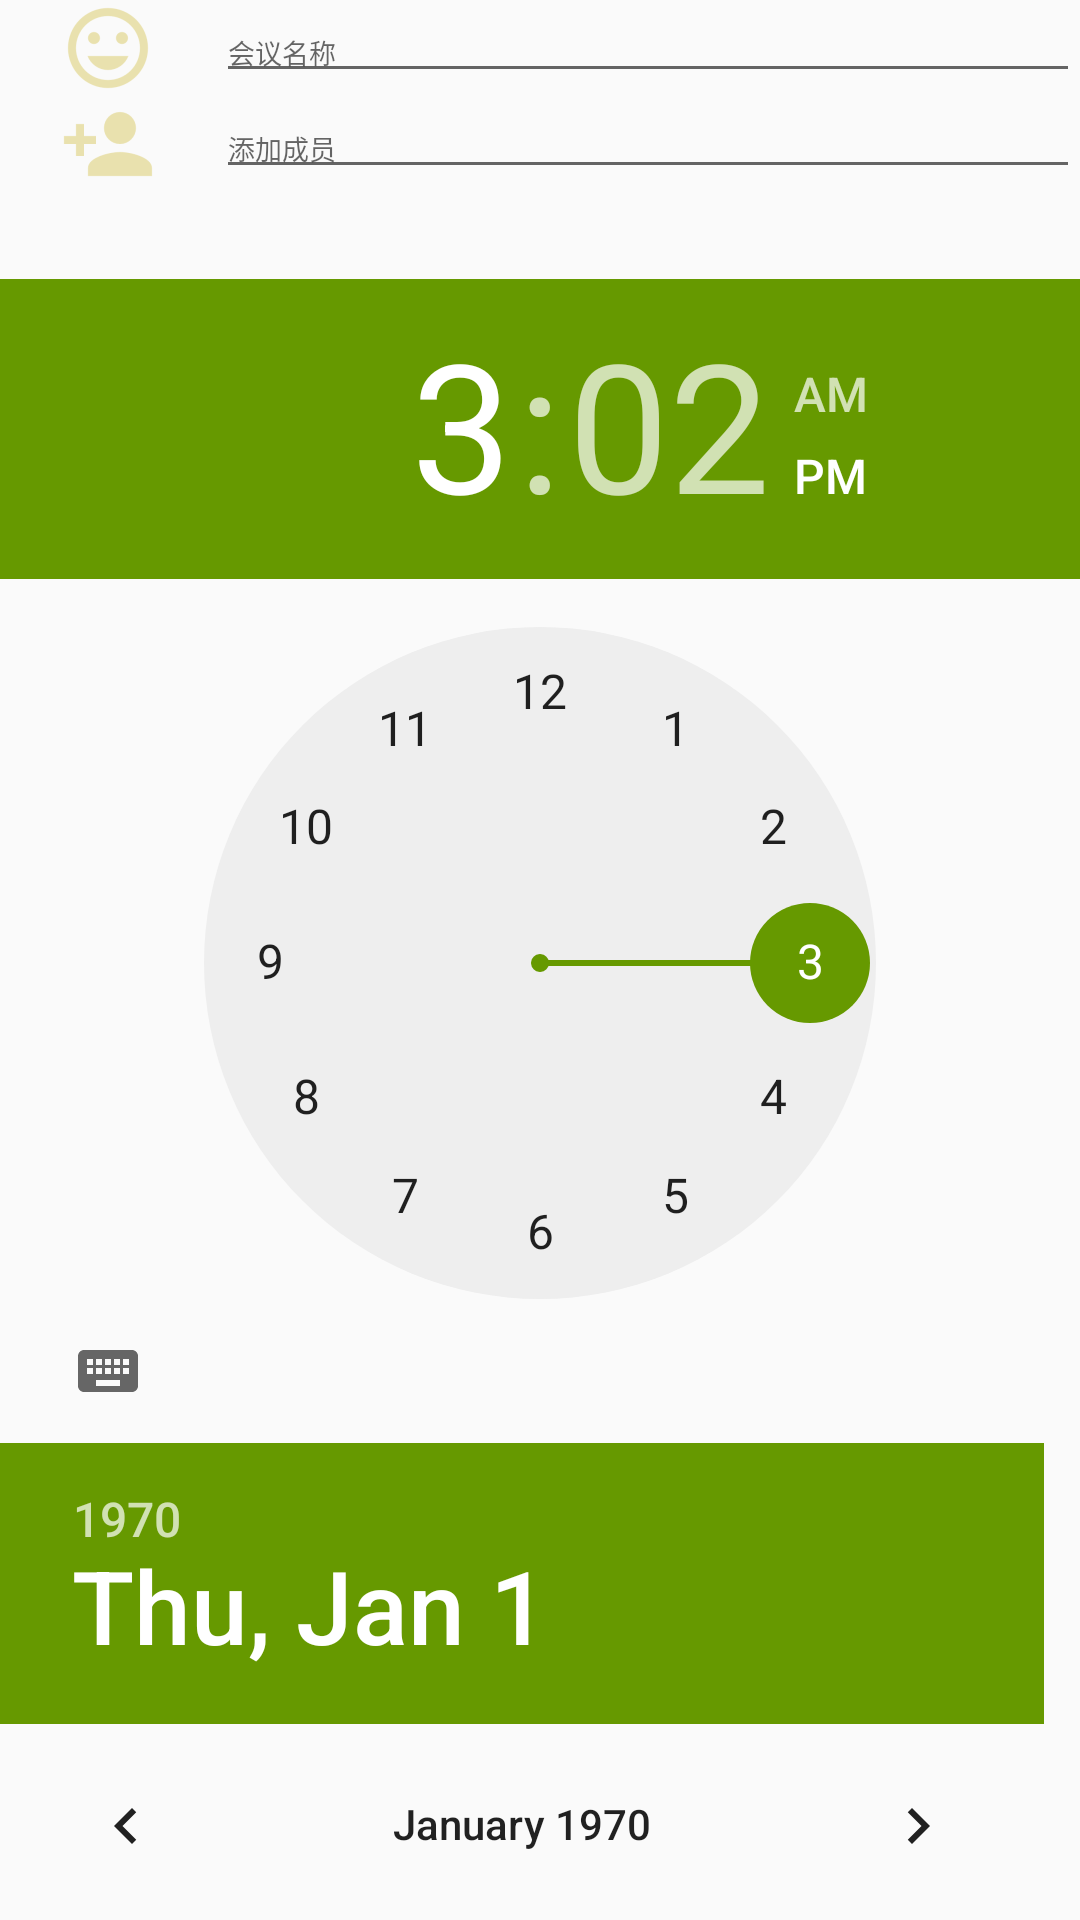

Named icons in this screenshot (1080 × 1920) and their bounding boxes, bbox=[x1, y1, x2, y2]:
meeting add member: bbox=[64, 112, 152, 176]
